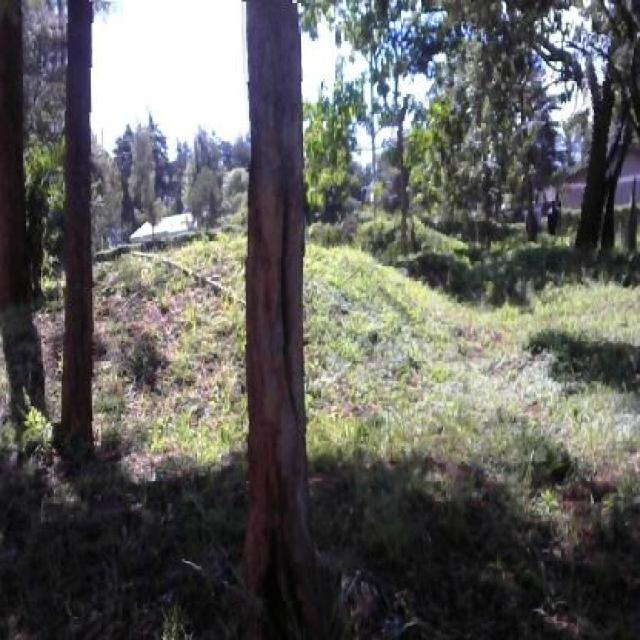tree trunk: (230, 3, 333, 600), (45, 0, 122, 529), (562, 33, 626, 267), (374, 91, 424, 267)
